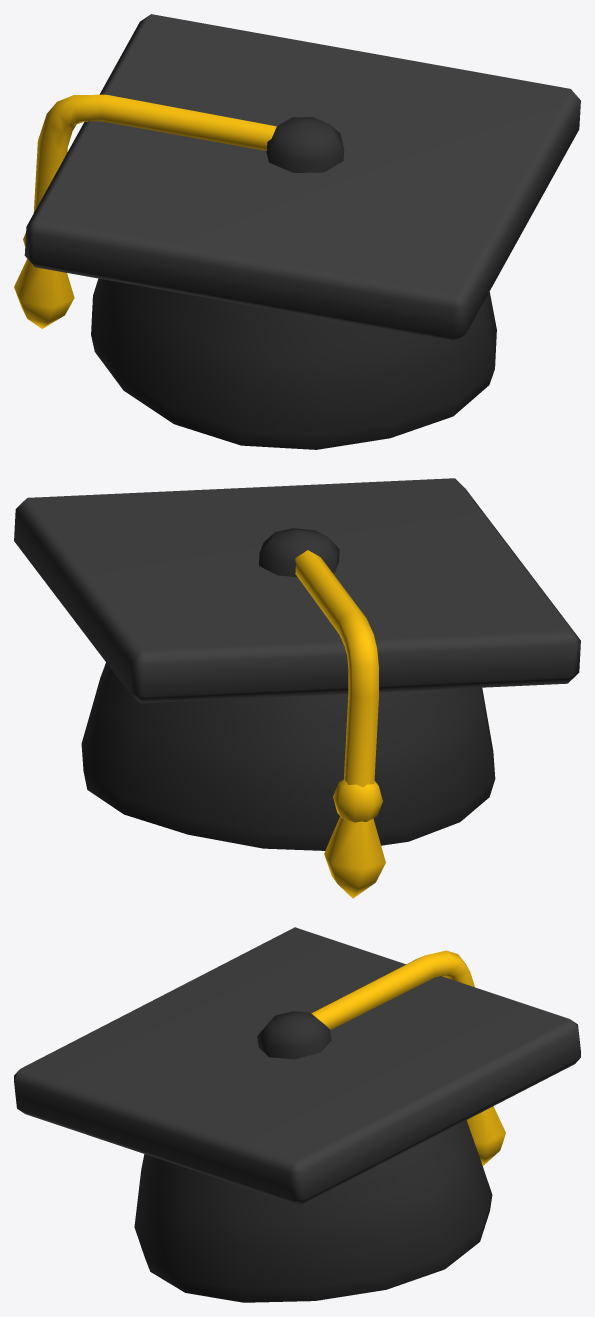
The model's file is Headgear_9.fbx.
The picture shows the model from 3 angles, top to bottom: view 1: azimuth 30°, elevation 25°; view 2: azimuth 150°, elevation 25°; view 3: azimuth 270°, elevation 25°; orthographic projection. The views are drawn at different scales.
Parts seen in each view (by area): view 1: Headgear_9; view 2: Headgear_9; view 3: Headgear_9.
Boxes of the visible parts, x1,y1,x2,y2 form: Headgear_9: [14, 14, 580, 449]; Headgear_9: [14, 478, 580, 898]; Headgear_9: [14, 927, 580, 1302].
Size of the model in its own units: 124 by 55.87 by 124.
